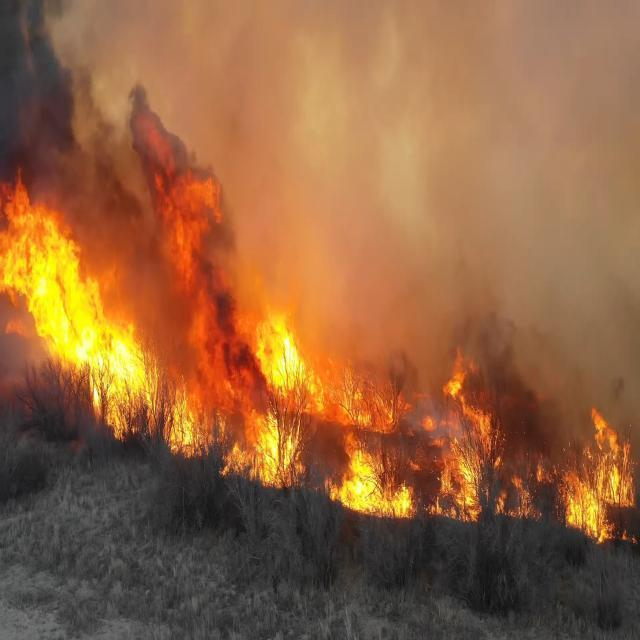Fire: (4, 178, 152, 416), (249, 286, 328, 407), (562, 409, 628, 542), (435, 362, 488, 526), (335, 430, 411, 529), (231, 399, 302, 491)
Smoke: (486, 275, 562, 442)
